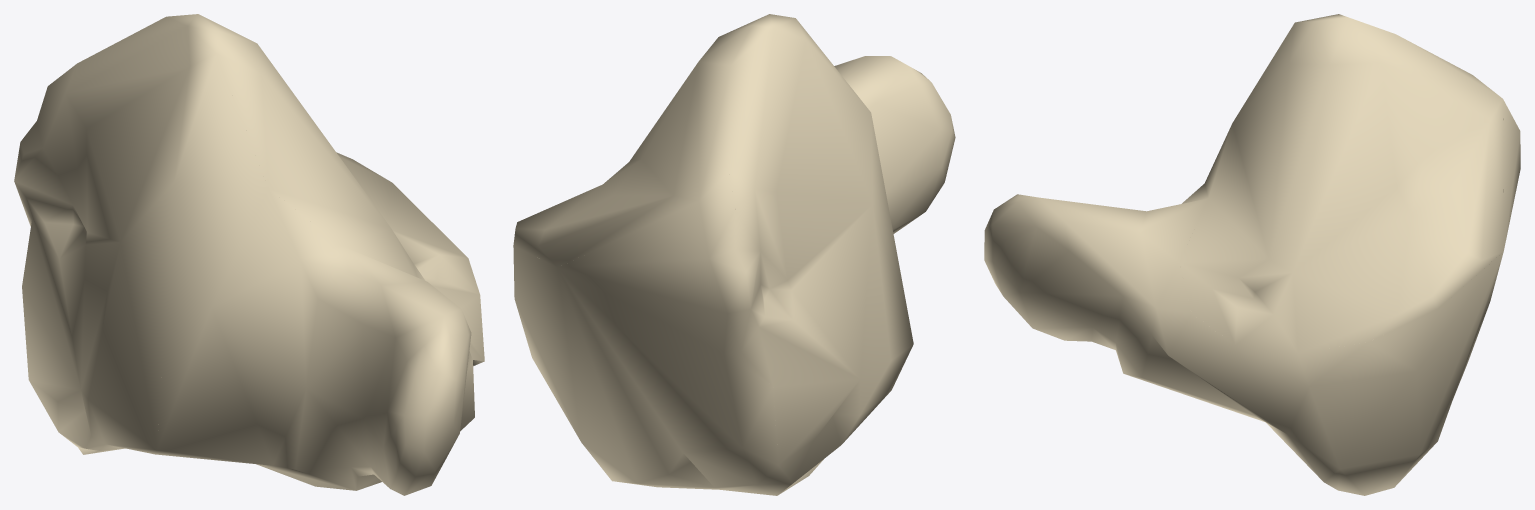
The model's file is esqueleto-hamate-bone-r.glb.
3 views of the same model, side by side, from view 1: azimuth 30°, elevation 25°; view 2: azimuth 150°, elevation 25°; view 3: azimuth 270°, elevation 25° (orthographic). The views are drawn at different scales.
Visible parts, largest first — view 1: Hamate bone.r; view 2: Hamate bone.r; view 3: Hamate bone.r.
Part boxes in pixels (<box>): Hamate bone.r: <box>14,14,484,495</box>; Hamate bone.r: <box>513,14,955,495</box>; Hamate bone.r: <box>984,14,1520,495</box>.
Bounding box in the file's own units: 0.0161 × 0.0202 × 0.0234.
